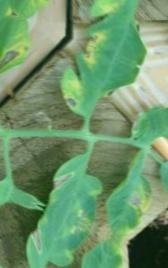Tomato Early blight leaf: (50, 41, 140, 134), (42, 145, 120, 229), (97, 153, 165, 245), (0, 5, 43, 114), (124, 77, 168, 168)
Tomato leaf: (151, 151, 168, 213)
